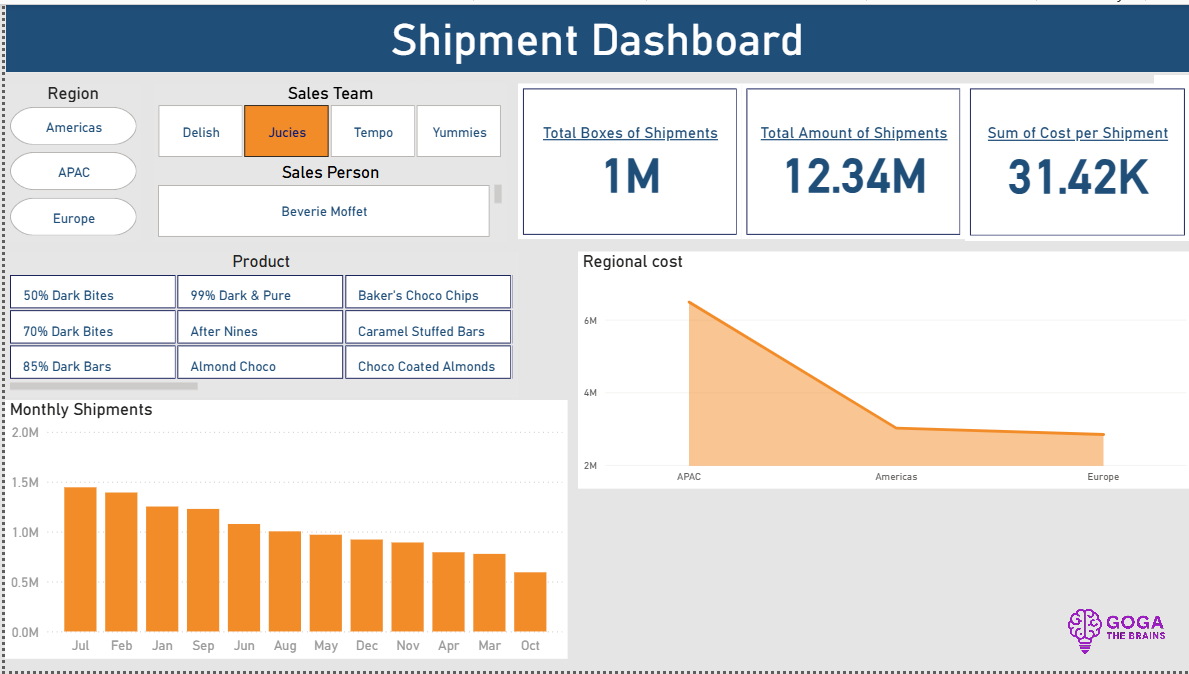

Layout of this report page (visuals, bound fields, positions):
{"tool":"powerbi","page":{"name":"Page 1","canvas":[1280,720],"ordinal":0},"visuals":[{"type":"actionButton","box":[0,0,100,40],"z":0},{"type":"cardVisual","fields":{"Data":["shipments.Total Amount"]},"box":[794.6,86.3,241.5,168.3],"z":1000},{"type":"cardVisual","fields":{"Data":["shipments.Total Number of Boxes"]},"box":[553.2,86.3,241.5,168.3],"z":2000},{"type":"columnChart","title":"Monthly Shipments","fields":{"Y":["shipments.Amount"],"Category":["calendar.Month Name"]},"box":[0,427.3,607.3,279.5],"z":3000},{"type":"advancedSlicerVisual","fields":{"Values":["products.Product"]},"box":[0,267.8,553.2,156.6],"z":4000},{"type":"advancedSlicerVisual","title":"Region","fields":{"Values":["locations.Region"]},"box":[0,85.8,147.3,170],"z":5000},{"type":"image","box":[1131.8,634.7,147.3,85.8],"z":6000},{"type":"shape","box":[0,0,1279.2,74.5],"z":7000},{"type":"cardVisual","fields":{"Data":["shipments.Cost per Shipment"]},"box":[1036.1,86.3,242.9,169.8],"z":8000},{"type":"advancedSlicerVisual","fields":{"Values":["people. Sales Team "]},"box":[161,86.3,382,84.9],"z":9000},{"type":"advancedSlicerVisual","fields":{"Values":["people.Sales_person"]},"box":[161,171.2,382,84.9],"z":10000},{"type":"lineChart","title":"Regional cost","fields":{"Category":["locations.Region"],"Y":["shipments.Amount"]},"box":[619,267.8,661.5,256.1],"z":11000}]}

Visuals, with their boxes in screenshot pixels (x1, y1, x2, y2), scaled from the page's 1280x720 canvas onto the 1189x674 screenshot:
actionButton: <box>0,0,93,37</box>
cardVisual - shipments.Total Amount: <box>738,81,962,238</box>
cardVisual - shipments.Total Number of Boxes: <box>514,81,738,238</box>
"Monthly Shipments" columnChart: <box>0,400,564,662</box>
advancedSlicerVisual - products.Product: <box>0,251,514,397</box>
"Region" advancedSlicerVisual: <box>0,80,137,239</box>
image: <box>1051,594,1188,673</box>
shape: <box>0,0,1188,70</box>
cardVisual - shipments.Cost per Shipment: <box>962,81,1188,240</box>
advancedSlicerVisual - people. Sales Team : <box>150,81,504,160</box>
advancedSlicerVisual - people.Sales_person: <box>150,160,504,240</box>
"Regional cost" lineChart: <box>575,251,1188,490</box>
